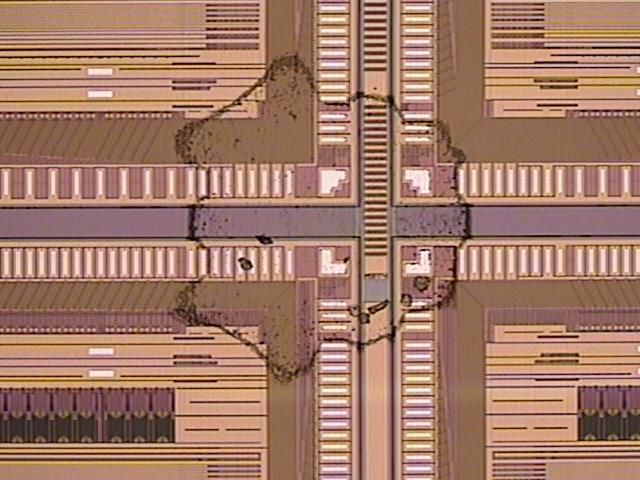PO CONTAMINATION: (168, 51, 475, 387)
